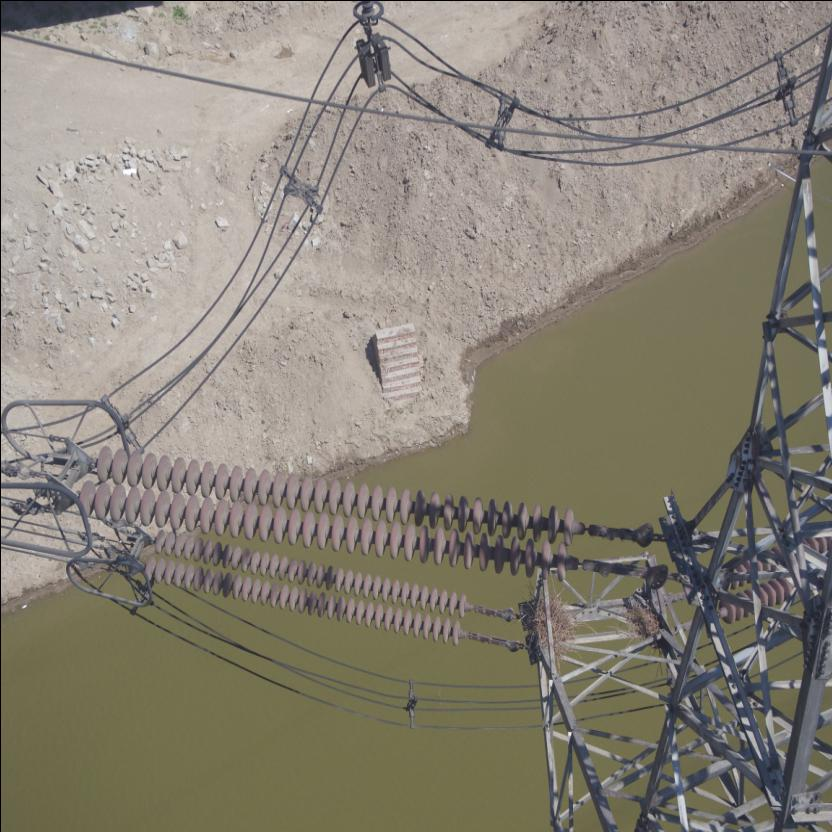insulator: (68, 437, 624, 581), (131, 524, 494, 644)
